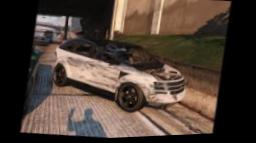Bonnet: (134, 64, 183, 82)
Door: (67, 53, 122, 93)
Windshield: (101, 45, 157, 68)
